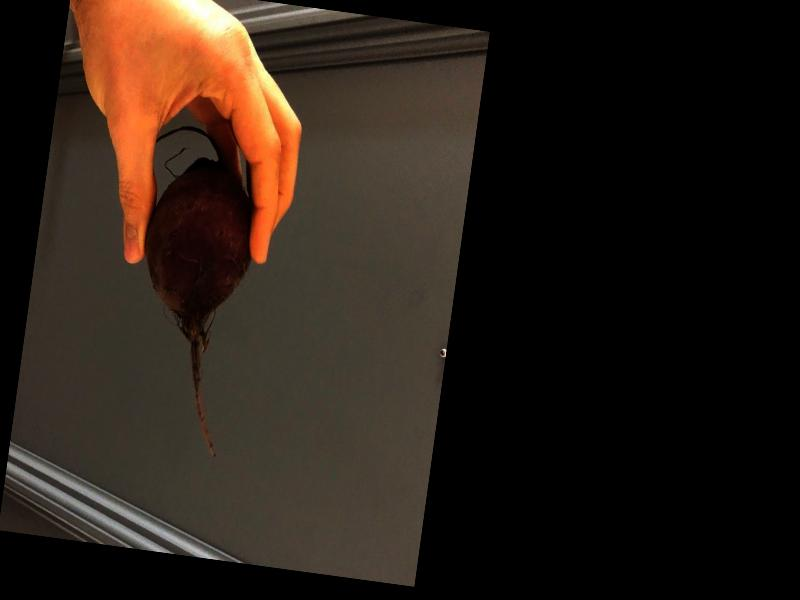Beet: (115, 124, 264, 464)
